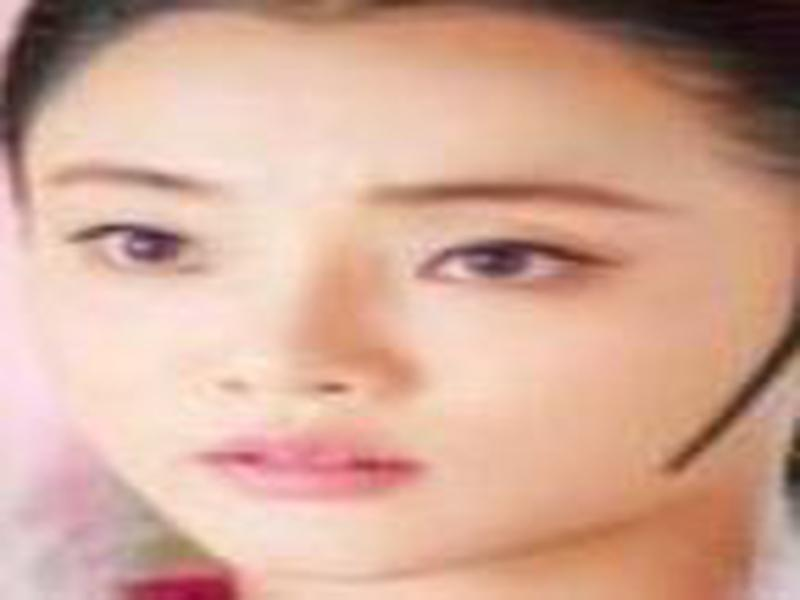without_mask: (19, 61, 763, 584)
